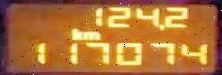-: (157, 23, 164, 30)
0: (113, 42, 143, 65)
1: (33, 41, 47, 64), (66, 42, 79, 64), (91, 6, 103, 27)
2: (104, 6, 130, 27), (164, 7, 188, 28)
4: (178, 43, 206, 64), (134, 7, 158, 26)
7: (148, 41, 175, 65), (82, 41, 109, 64)
X: (80, 30, 100, 39), (69, 27, 82, 40)
